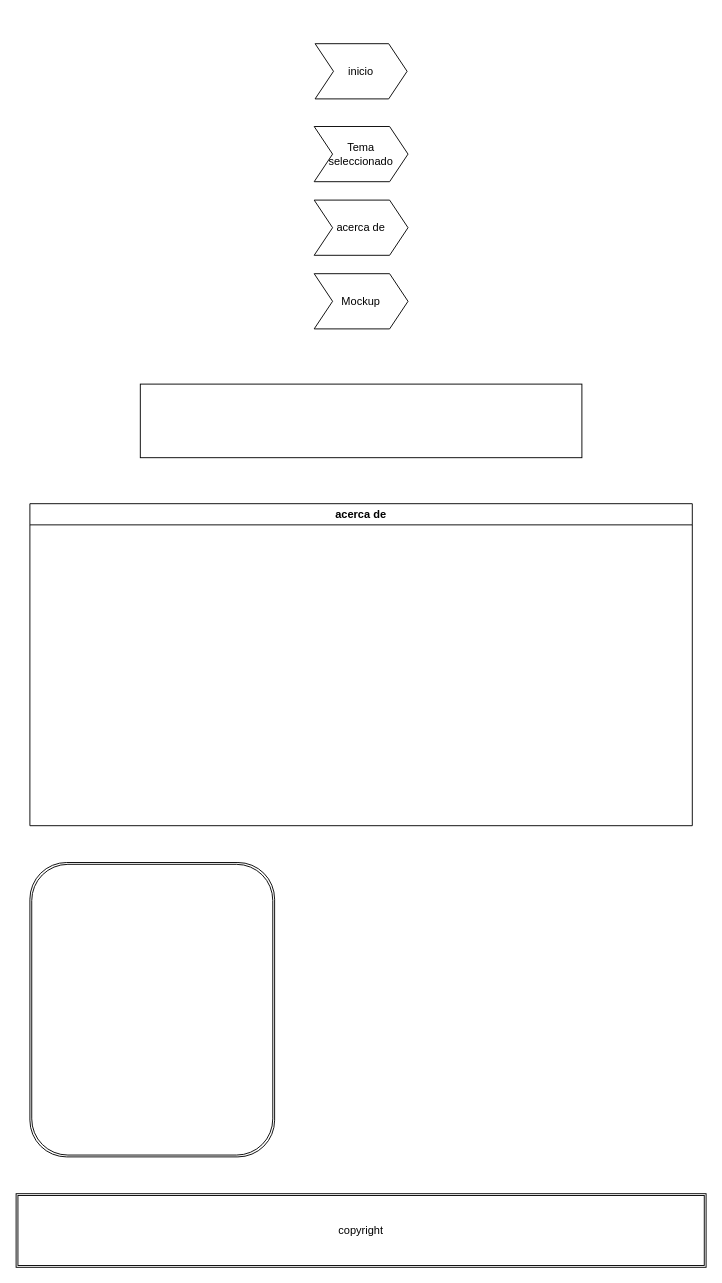
This 722x1283 diagram has some shape labels left out. Here are the shapes that lost their labels. From the top down, the centre of each, then its label:
(360,420): Slectores css
(152,1009): mokup
